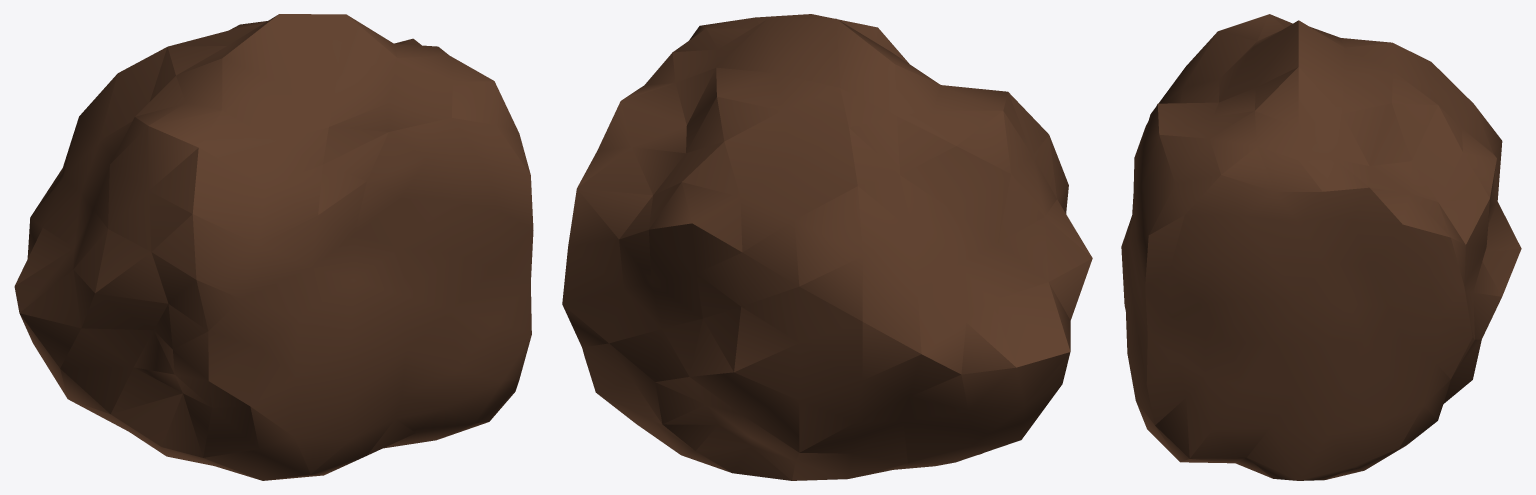
The model's file is fractured-coffee-granule.glb.
3 views of the same model, side by side, from view 1: azimuth 30°, elevation 25°; view 2: azimuth 150°, elevation 25°; view 3: azimuth 270°, elevation 25° (orthographic). The views are drawn at different scales.
Parts seen in each view (by area): view 1: Fractured_Coffee_Granule_01; view 2: Fractured_Coffee_Granule_01; view 3: Fractured_Coffee_Granule_01.
Boxes of the visible parts, x1=… form: Fractured_Coffee_Granule_01: x1=14, y1=14, x2=533, y2=480; Fractured_Coffee_Granule_01: x1=562, y1=14, x2=1092, y2=480; Fractured_Coffee_Granule_01: x1=1121, y1=14, x2=1521, y2=480.
Size of the model in its own units: 1.44 by 1.3 by 1.22.
